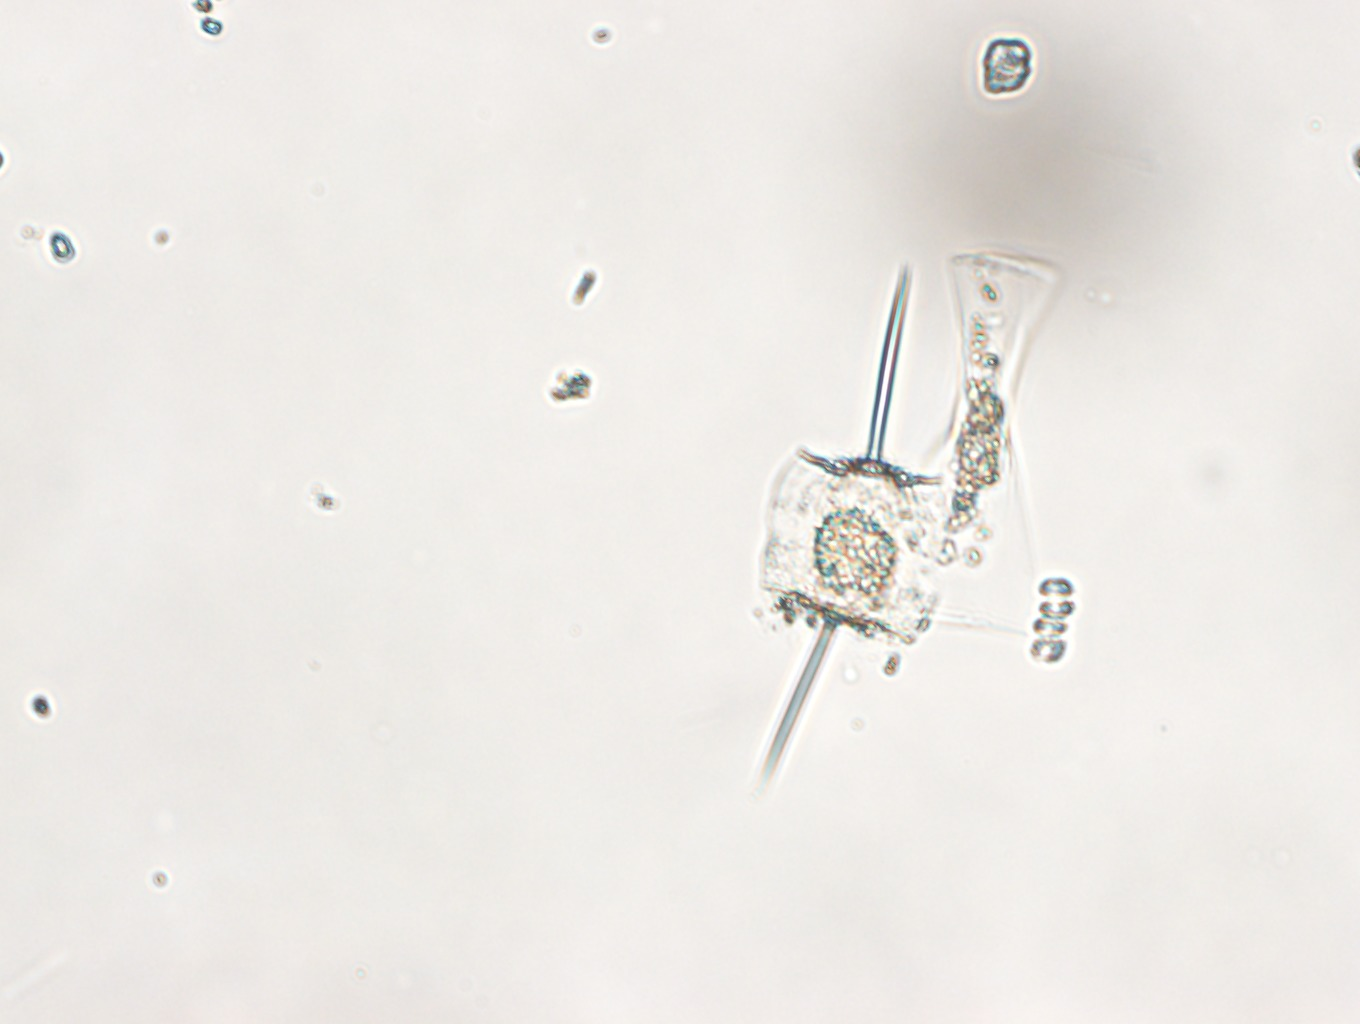ditylum: (757, 255, 951, 795)
helicotheca: (907, 248, 1060, 628)
skeletonema: (1029, 577, 1077, 667)
